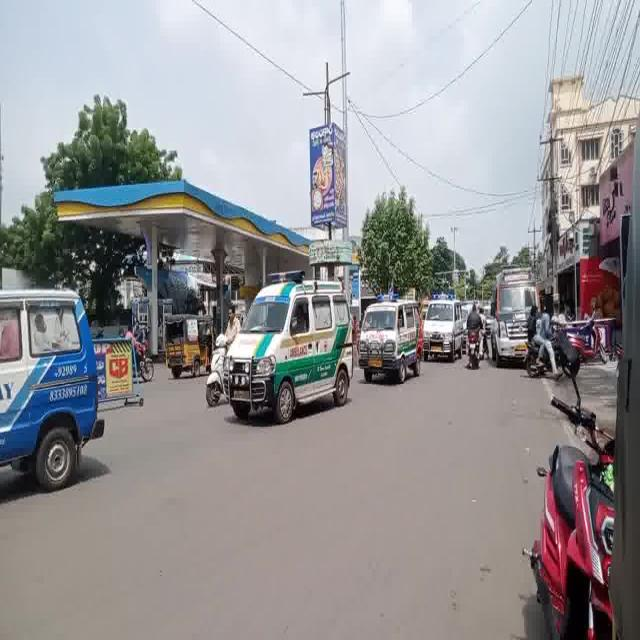ambulance: (0, 290, 99, 479), (226, 278, 354, 407), (361, 300, 426, 382), (496, 269, 534, 363)
